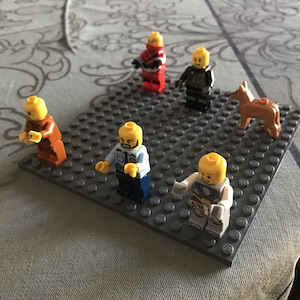Lego: (173, 152, 237, 236), (100, 120, 152, 205), (18, 94, 66, 171), (174, 47, 215, 111), (132, 30, 166, 92)
